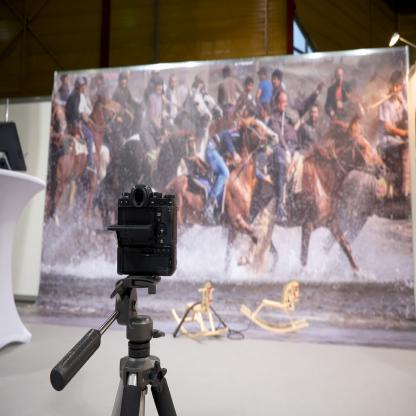Camera: (109, 184, 178, 278)
